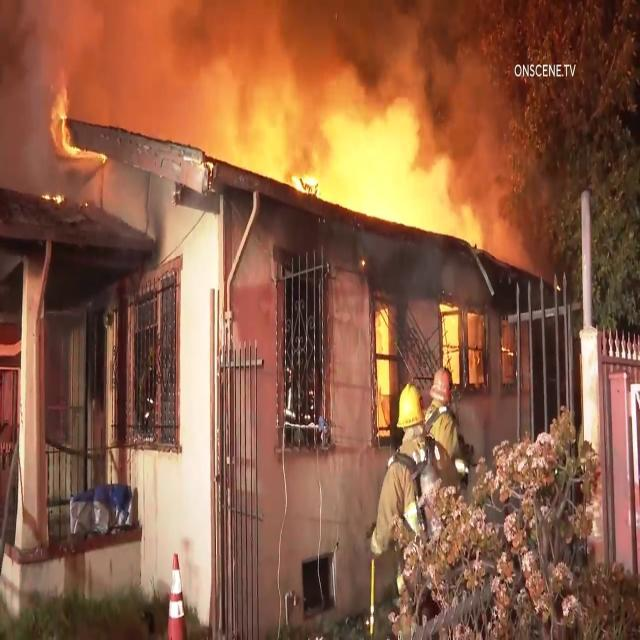Fire: (270, 114, 480, 238)
Smoke: (0, 0, 246, 83)
